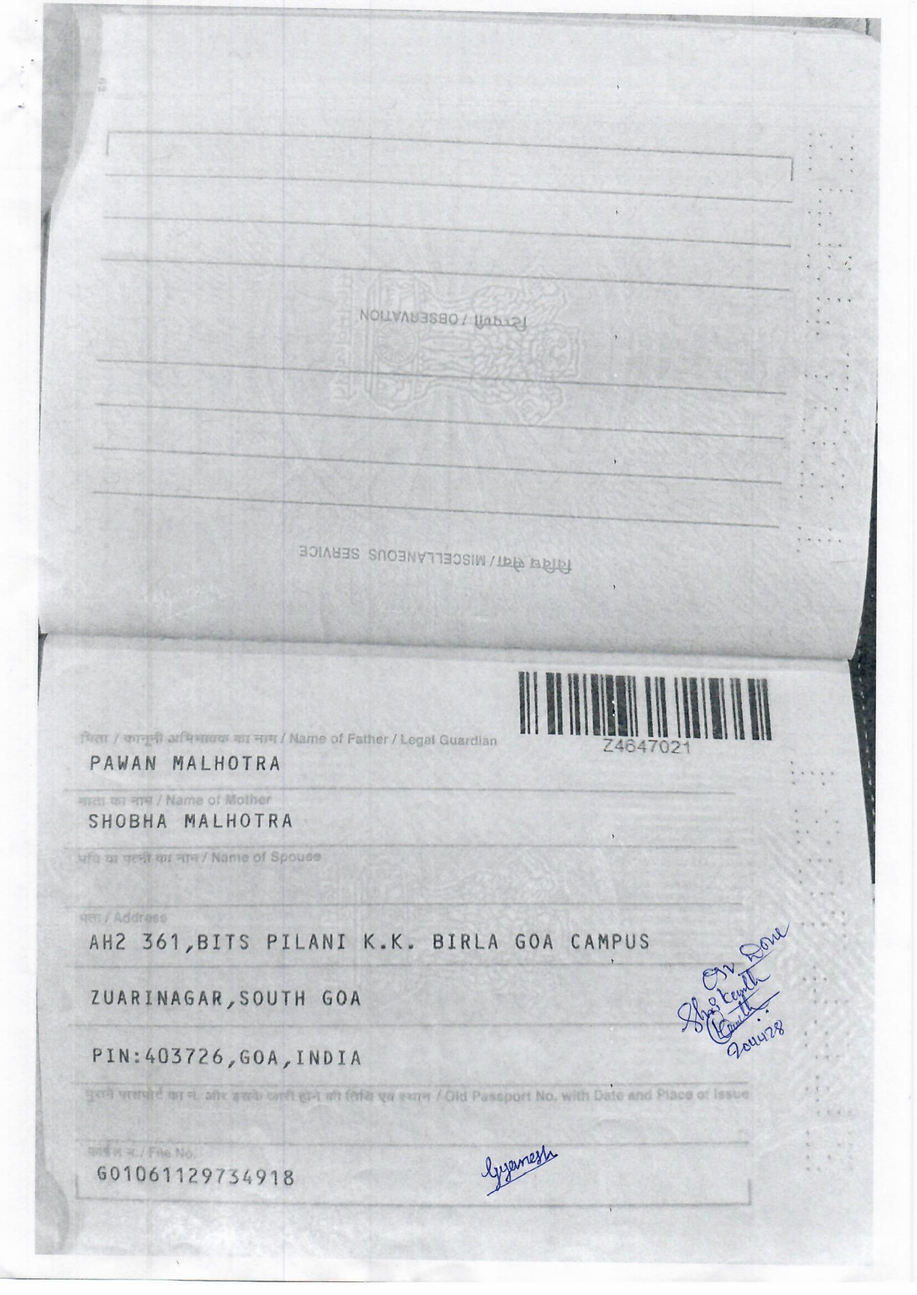File_no: (92, 1159, 307, 1199)
address: (81, 905, 658, 1082)
father_name: (75, 744, 297, 787)
mother_name: (77, 804, 302, 836)
passport_no: (592, 733, 697, 763)
